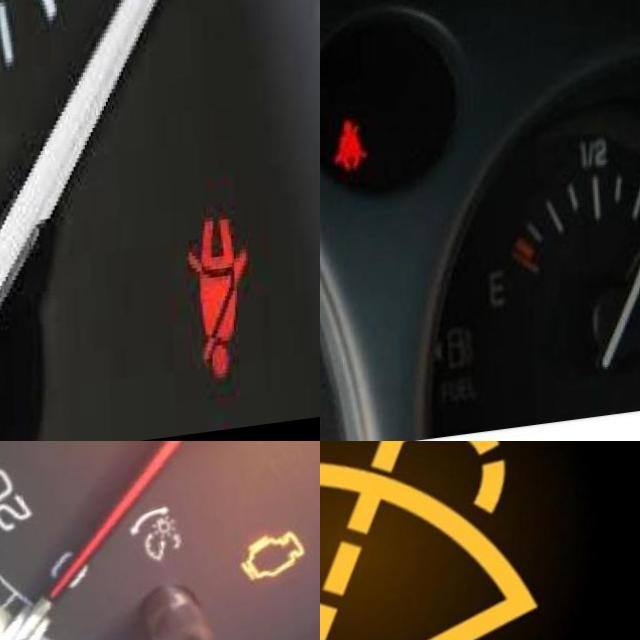Seat Belt: (182, 222, 250, 394), (330, 127, 366, 181)
Washer Fluid: (320, 441, 536, 640)
